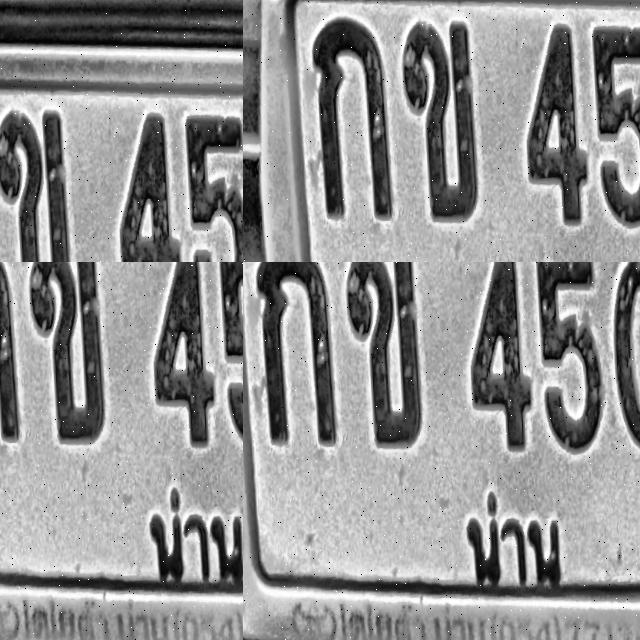license-plate: (243, 262, 640, 640), (243, 15, 640, 262)
